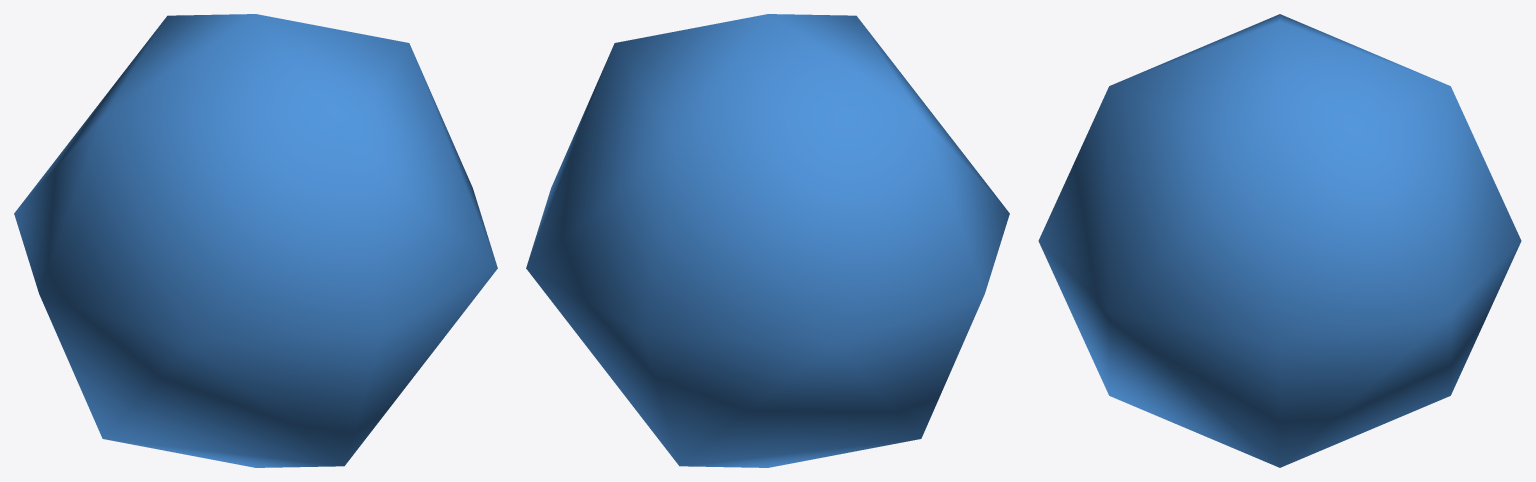
Rendered from expected.gltf.
The picture shows the model from 3 angles, left to right: view 1: azimuth 30°, elevation 25°; view 2: azimuth 150°, elevation 25°; view 3: azimuth 270°, elevation 25°; orthographic projection. The views are drawn at different scales.
Bounding box in the file's own units: 20 × 20 × 20.
